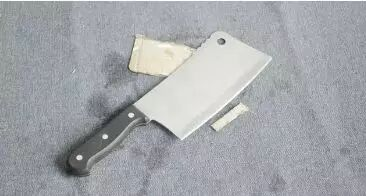knief: (60, 32, 274, 178)
